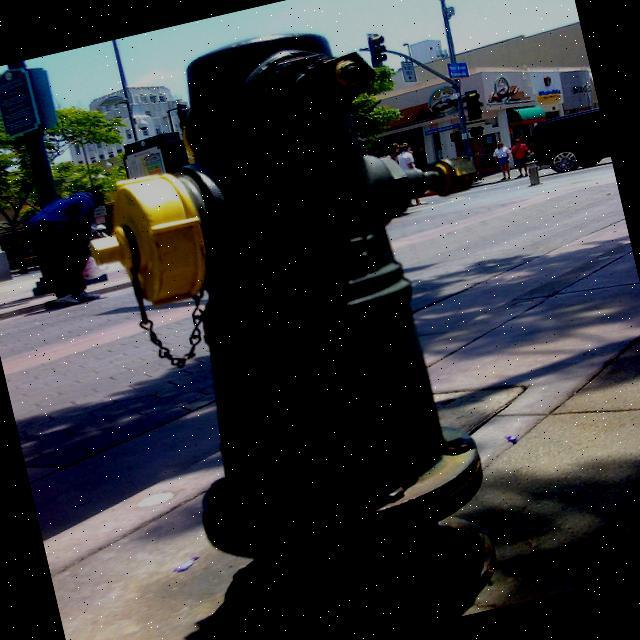fire_hydrant: (44, 0, 572, 640)
